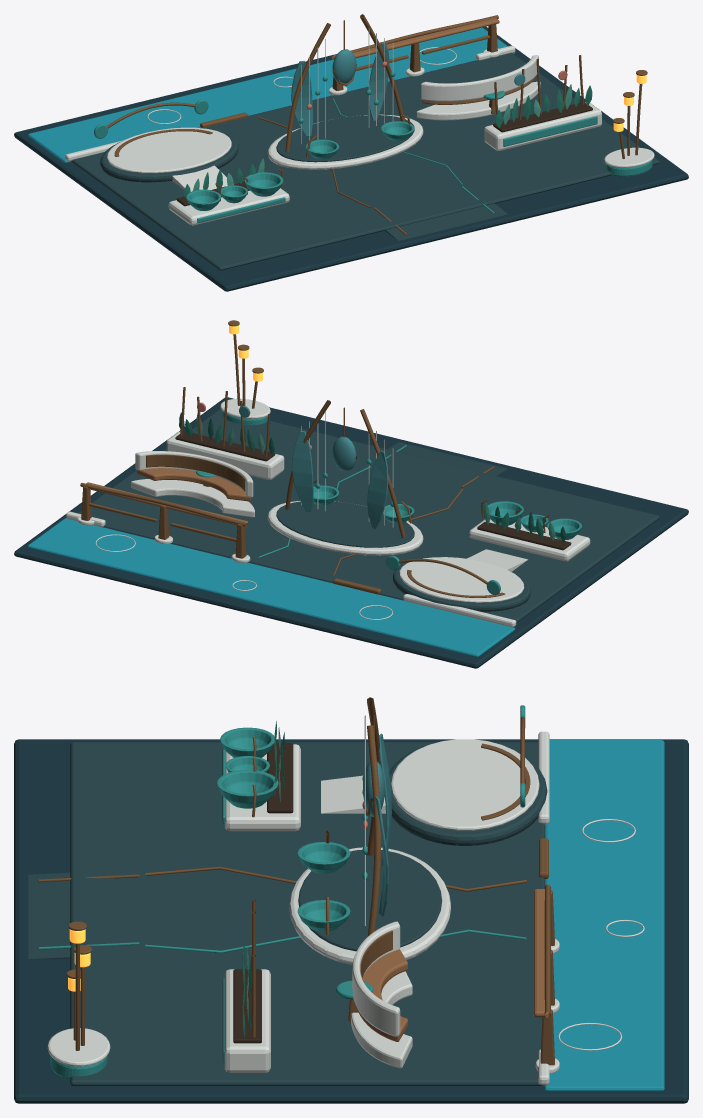
The model's file is afterlight_resonance_garden_kit.runtime.draco.glb.
The picture shows the model from 3 angles, top to bottom: view 1: azimuth 30°, elevation 25°; view 2: azimuth 150°, elevation 25°; view 3: azimuth 270°, elevation 25°; orthographic projection. The views are drawn at different scales.
Parts seen in each view (by area): view 1: RG_TerraceWaterEdge_A, RG_ResonanceLoom_A, RG_ListeningDais_A, RG_GardenScreen_A, RG_SoundBowlPlanter_A, RG_DuetBench_A, RG_OverlookRail_A, RG_LanternReeds_A; view 2: RG_TerraceWaterEdge_A, RG_ResonanceLoom_A, RG_ListeningDais_A, RG_DuetBench_A, RG_SoundBowlPlanter_A, RG_GardenScreen_A, RG_OverlookRail_A, RG_LanternReeds_A; view 3: RG_TerraceWaterEdge_A, RG_ResonanceLoom_A, RG_ListeningDais_A, RG_SoundBowlPlanter_A, RG_DuetBench_A, RG_GardenScreen_A, RG_LanternReeds_A, RG_OverlookRail_A.
Part boxes in pixels (<box>): RG_TerraceWaterEdge_A: <box>14,26,688,291</box>; RG_ResonanceLoom_A: <box>267,14,423,169</box>; RG_ListeningDais_A: <box>94,99,238,191</box>; RG_GardenScreen_A: <box>484,55,601,150</box>; RG_SoundBowlPlanter_A: <box>168,158,289,225</box>; RG_DuetBench_A: <box>416,55,540,120</box>; RG_OverlookRail_A: <box>328,15,500,95</box>; RG_LanternReeds_A: <box>604,70,654,176</box>; RG_TerraceWaterEdge_A: <box>14,397,688,668</box>; RG_ResonanceLoom_A: <box>267,400,423,555</box>; RG_ListeningDais_A: <box>386,549,530,611</box>; RG_DuetBench_A: <box>131,451,254,517</box>; RG_SoundBowlPlanter_A: <box>469,500,590,561</box>; RG_GardenScreen_A: <box>166,387,284,479</box>; RG_OverlookRail_A: <box>77,482,250,562</box>; RG_LanternReeds_A: <box>220,320,270,425</box>; RG_TerraceWaterEdge_A: <box>14,731,688,1103</box>; RG_ResonanceLoom_A: <box>289,697,450,964</box>; RG_ListeningDais_A: <box>321,705,547,845</box>; RG_SoundBowlPlanter_A: <box>217,721,300,831</box>; RG_DuetBench_A: <box>336,921,412,1068</box>; RG_GardenScreen_A: <box>222,900,270,1072</box>; RG_LanternReeds_A: <box>47,921,110,1079</box>; RG_OverlookRail_A: <box>534,884,559,1073</box>.
Size of the model in its own units: 13.6 by 3.79 by 10.8.
